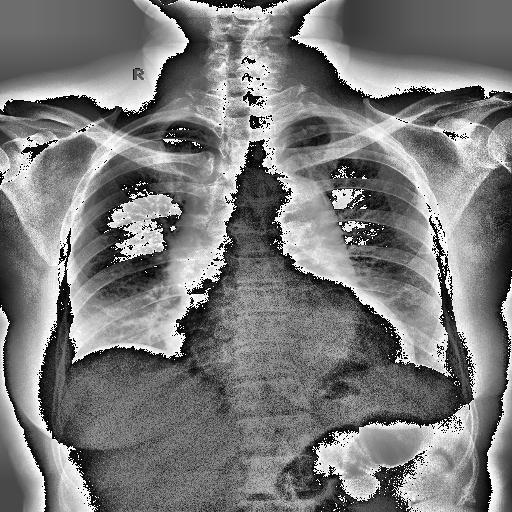0- Aortic enlargement: (244, 171, 350, 255), (251, 174, 346, 258), (267, 174, 347, 259)
3- Cardiomegaly: (163, 294, 418, 368), (162, 317, 416, 385), (165, 306, 417, 370)
